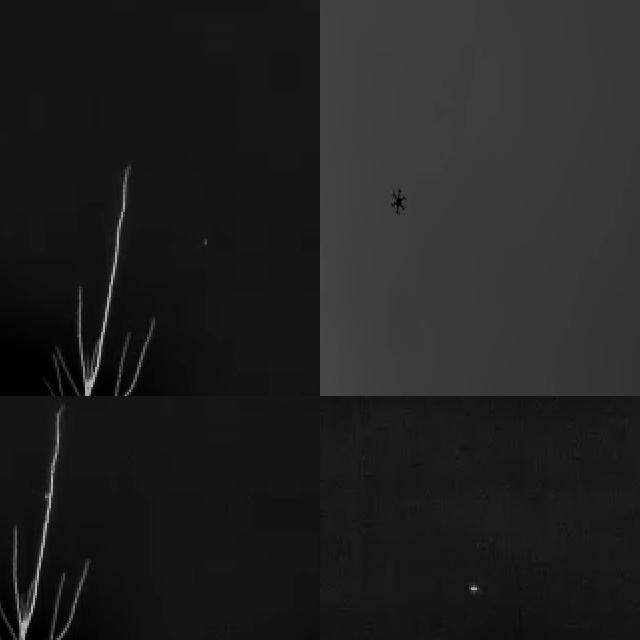0: (196, 230, 222, 260), (37, 488, 57, 508)
1: (465, 578, 491, 604)
drone: (389, 183, 410, 217)
